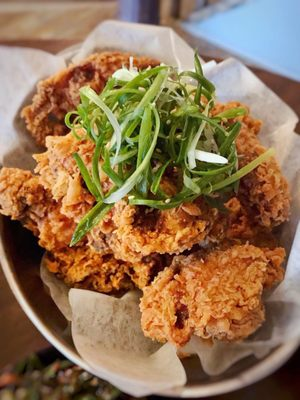soup: (3, 43, 294, 342)
